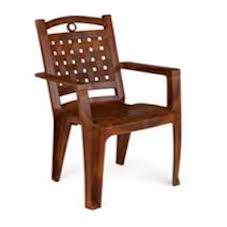chair: (22, 6, 208, 224)
